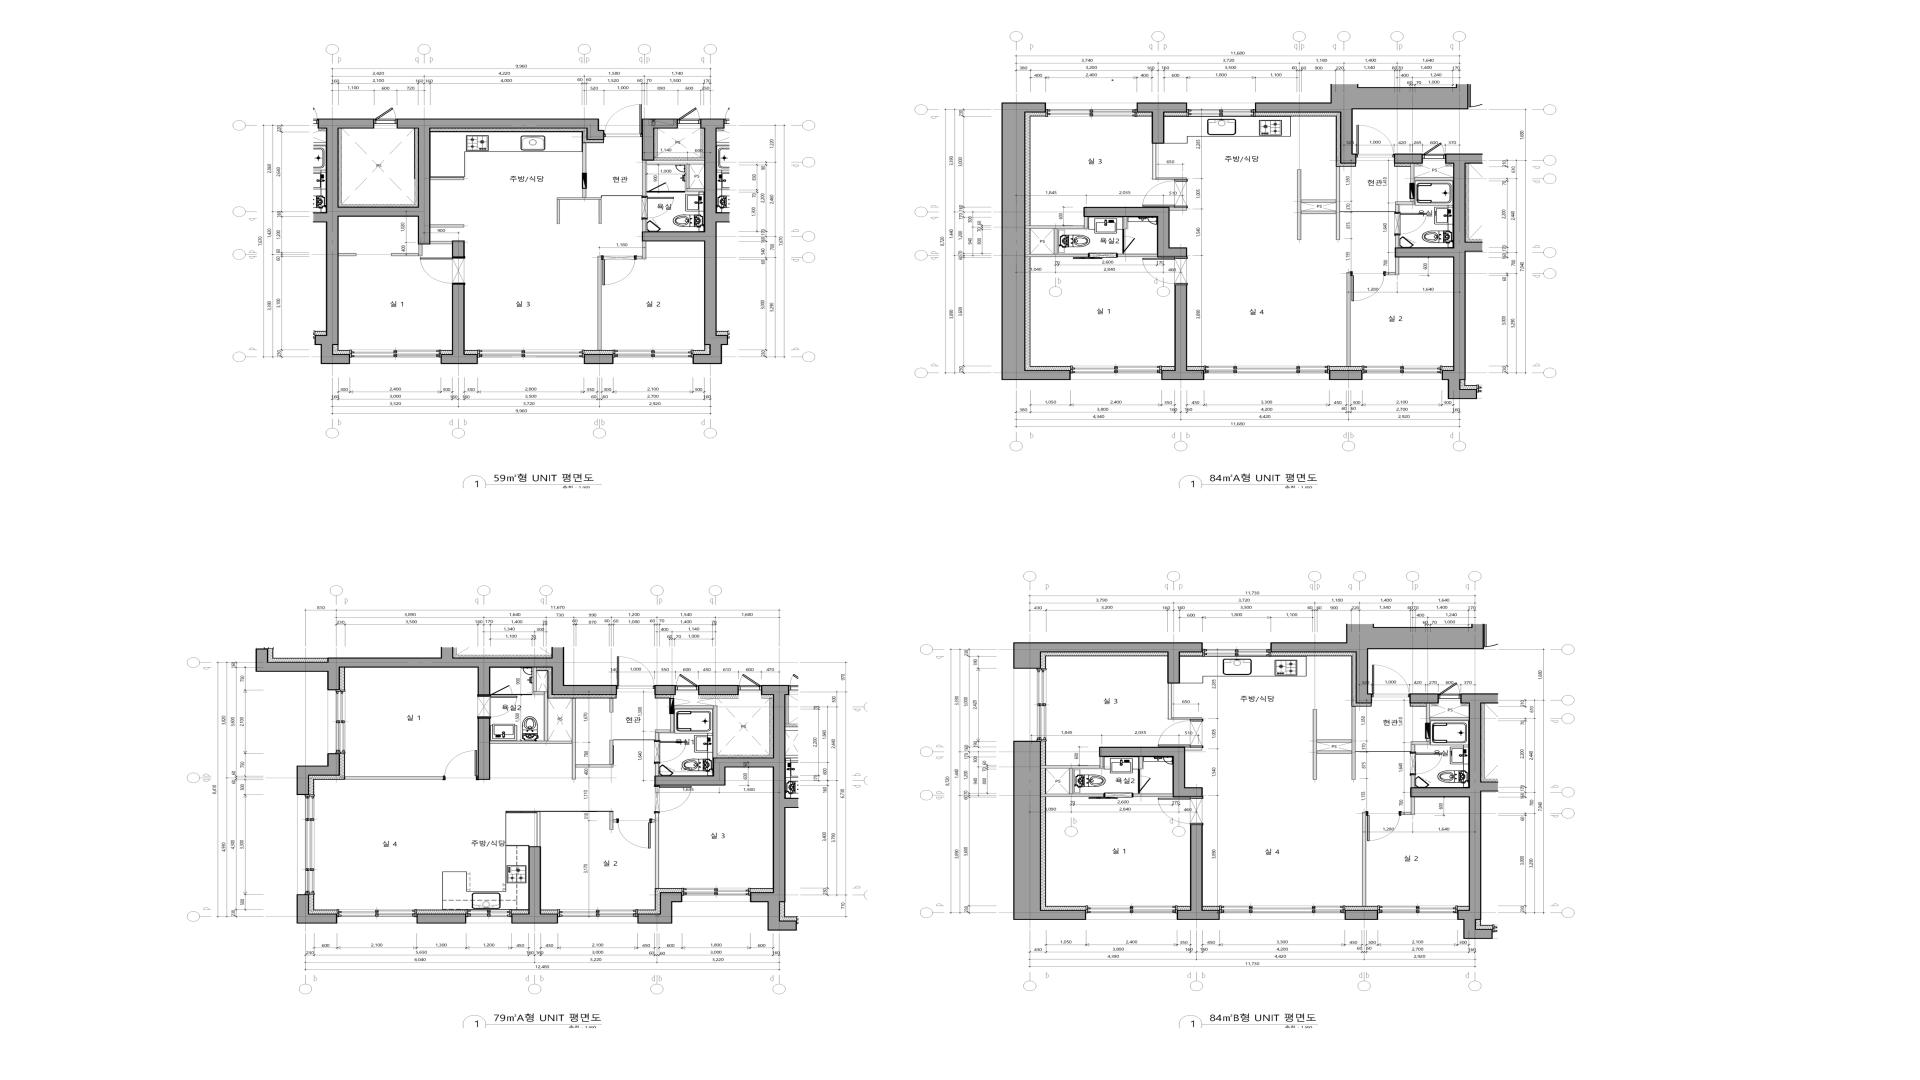door: (1142, 257, 1188, 285), (1158, 720, 1204, 748), (1158, 796, 1204, 824), (617, 655, 655, 688), (1356, 124, 1394, 157), (604, 104, 642, 137), (1371, 665, 1410, 698), (419, 257, 464, 284), (617, 819, 651, 851), (601, 256, 637, 286), (1350, 272, 1386, 302), (1366, 811, 1402, 841), (654, 786, 694, 812), (443, 749, 477, 779), (477, 695, 518, 719), (1410, 752, 1444, 777), (1394, 212, 1428, 236), (654, 741, 687, 764), (641, 196, 674, 219), (1423, 142, 1445, 161), (1439, 682, 1461, 699), (1138, 769, 1153, 794), (1122, 229, 1137, 253), (1088, 793, 1134, 799), (1073, 253, 1118, 260), (646, 181, 669, 193), (491, 684, 513, 695)
wall: (315, 119, 604, 364), (654, 684, 790, 902), (1395, 154, 1482, 400), (1411, 694, 1498, 939), (642, 119, 728, 364), (1002, 103, 1071, 380), (1255, 84, 1468, 164), (1271, 624, 1484, 703), (491, 667, 613, 779), (1015, 741, 1085, 920), (327, 658, 616, 695), (1013, 642, 1203, 683), (1100, 746, 1203, 798), (1084, 207, 1187, 257), (1178, 824, 1221, 919), (1162, 285, 1204, 380), (512, 847, 558, 924), (1313, 707, 1357, 779), (1298, 166, 1340, 240), (440, 282, 477, 364), (1040, 757, 1105, 798), (1025, 218, 1089, 257), (642, 160, 704, 196), (675, 705, 717, 758), (1137, 103, 1187, 144), (297, 753, 340, 795), (556, 189, 601, 224), (642, 119, 678, 161), (637, 893, 683, 924), (1168, 683, 1203, 720), (1153, 144, 1187, 179), (297, 894, 338, 923), (1411, 164, 1453, 183), (477, 717, 491, 781), (1425, 704, 1468, 723), (651, 814, 659, 889), (655, 715, 674, 740), (417, 914, 465, 923), (698, 686, 738, 695), (390, 244, 422, 256), (597, 256, 601, 351), (1346, 273, 1350, 367), (1362, 812, 1366, 906), (1345, 910, 1378, 920), (1329, 371, 1362, 380), (505, 811, 613, 814), (1317, 742, 1353, 750), (583, 355, 613, 364), (1302, 203, 1336, 211), (1394, 154, 1423, 164), (1410, 694, 1439, 703), (1411, 738, 1431, 752), (345, 777, 443, 779), (1386, 257, 1399, 276), (1395, 199, 1415, 211), (1402, 798, 1415, 815), (654, 684, 675, 695), (452, 240, 464, 257), (637, 241, 646, 260), (1118, 253, 1156, 257), (430, 177, 464, 181), (537, 812, 541, 847), (609, 812, 617, 829), (431, 224, 464, 228), (582, 142, 585, 173), (1134, 794, 1172, 796), (1122, 218, 1129, 229), (1138, 757, 1145, 769), (1170, 207, 1187, 211), (1395, 236, 1400, 248), (1411, 775, 1416, 787), (430, 241, 452, 244), (642, 219, 646, 232), (609, 699, 613, 712), (655, 764, 659, 775), (339, 253, 356, 256), (1184, 748, 1201, 750), (670, 695, 674, 698)
window: (1014, 669, 1046, 741), (297, 795, 314, 894), (1204, 367, 1329, 380), (1220, 906, 1345, 919), (479, 349, 584, 364), (1046, 103, 1137, 117), (349, 349, 440, 364), (1071, 367, 1162, 380), (1087, 906, 1178, 919), (1362, 365, 1443, 380), (1378, 906, 1458, 920), (613, 349, 692, 364), (328, 690, 345, 753), (558, 910, 638, 923), (338, 910, 417, 923), (682, 887, 750, 902), (1187, 103, 1255, 117), (1203, 642, 1271, 657), (467, 910, 512, 923), (373, 105, 397, 128), (675, 674, 699, 690), (738, 674, 761, 690), (678, 108, 700, 124)
